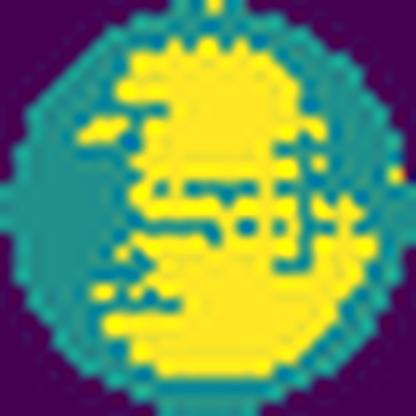Random: (71, 31, 382, 382)
